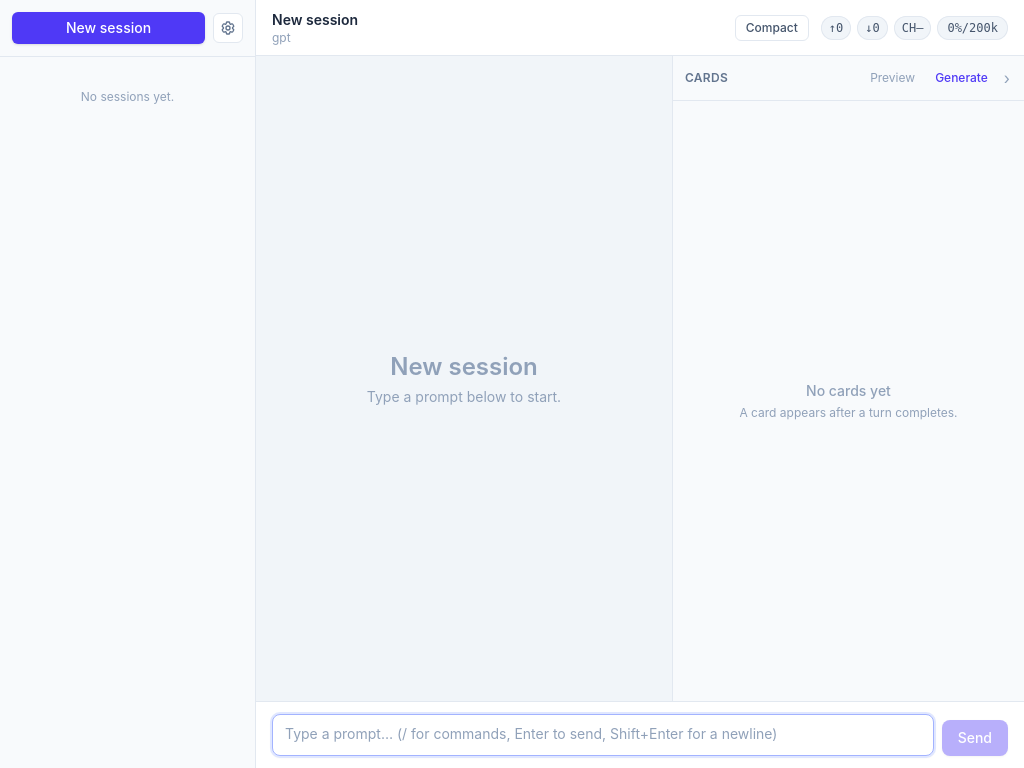
Usage HUD recalibration › refreshes the snapshot when a batch carries `compacted`
Click the button "Compact" at (772, 28), box [735,14,809,40]
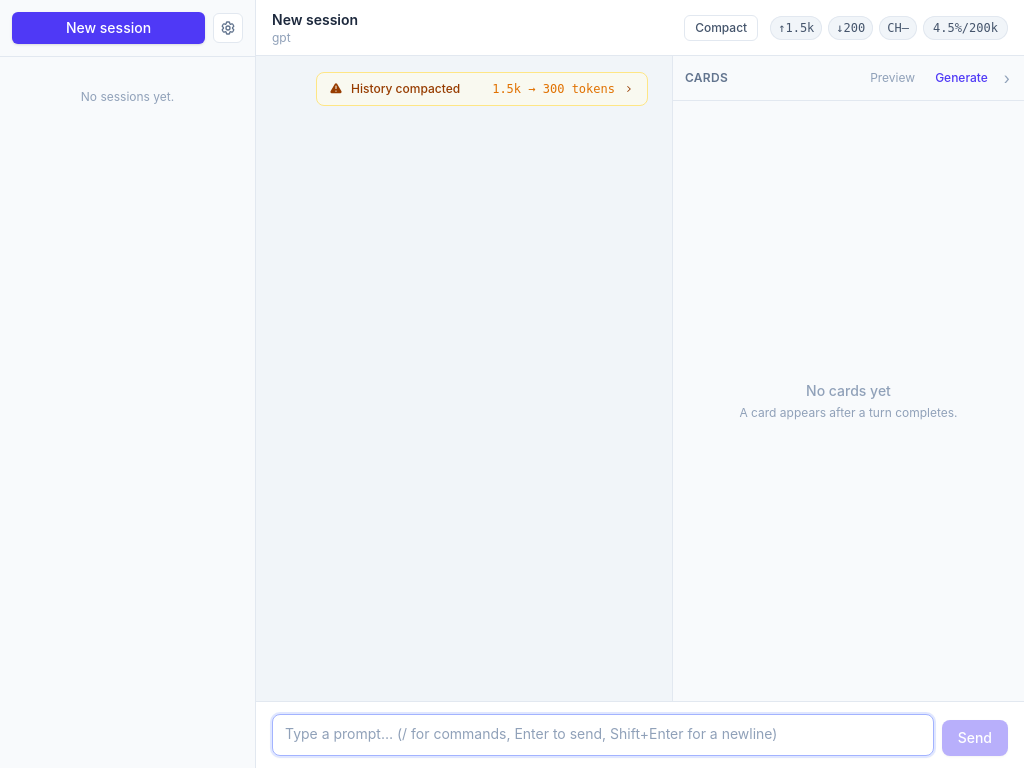
Check: the text "↑1.5k" is shown, box [770,16,822,40]
Check: the text "↓200" is shown, box [828,16,873,40]
Check: the text "4.5%/200k" is shown, box [923,16,1008,40]
